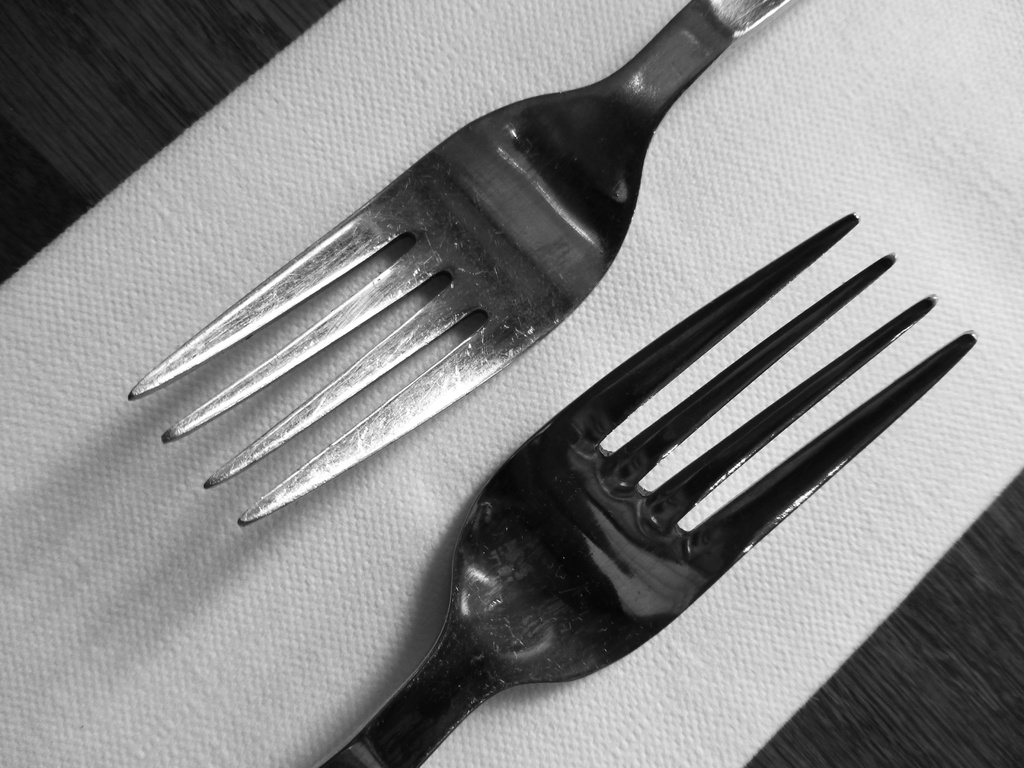fork: (126, 0, 792, 526)
